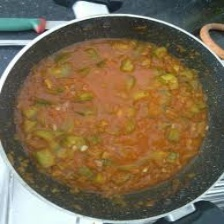sabzi: (11, 36, 209, 188)
